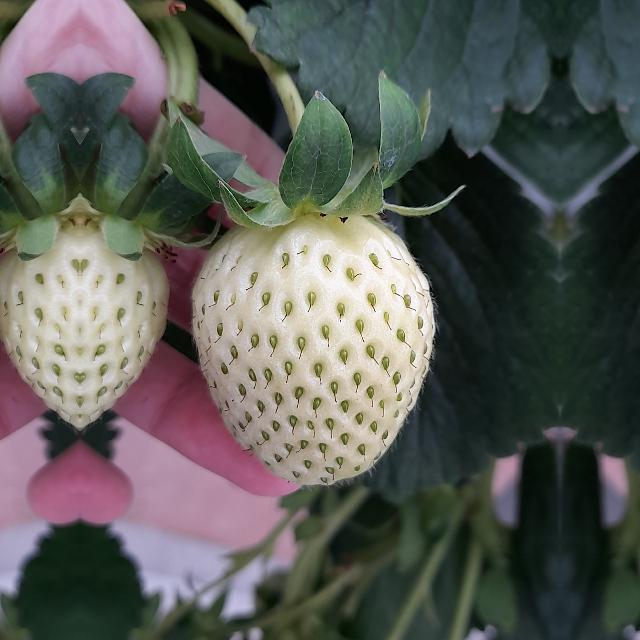Health_25: (192, 212, 434, 484), (80, 209, 166, 429), (0, 209, 80, 429)
